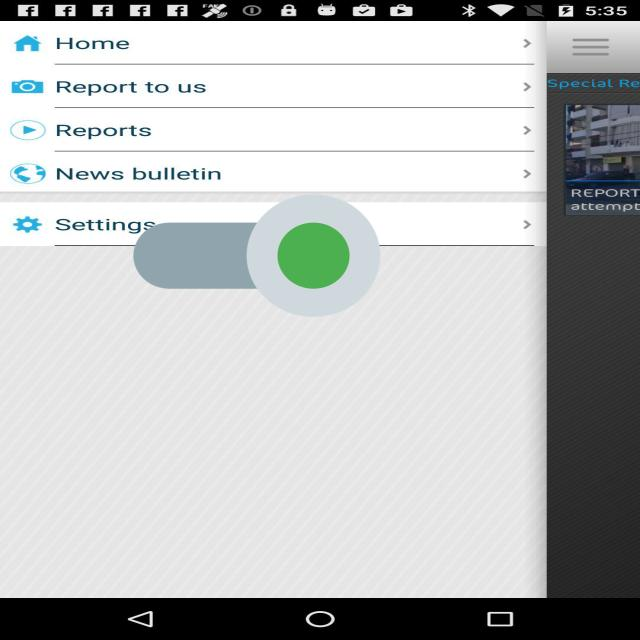social proof: (134, 142, 380, 369)
